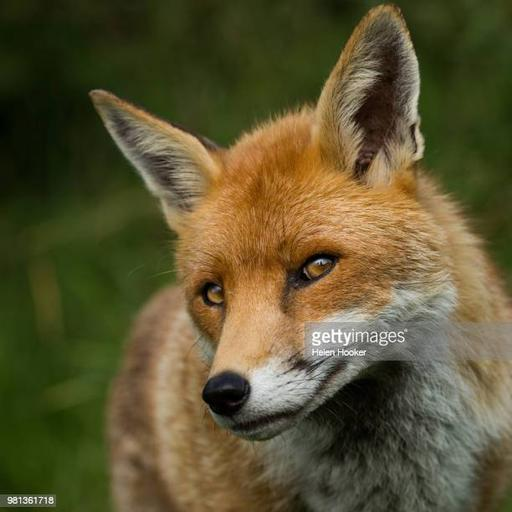Fox: (88, 0, 512, 512)
